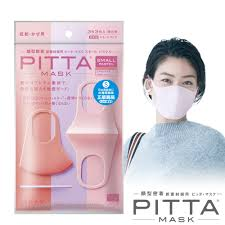Mask: (148, 51, 200, 122)
